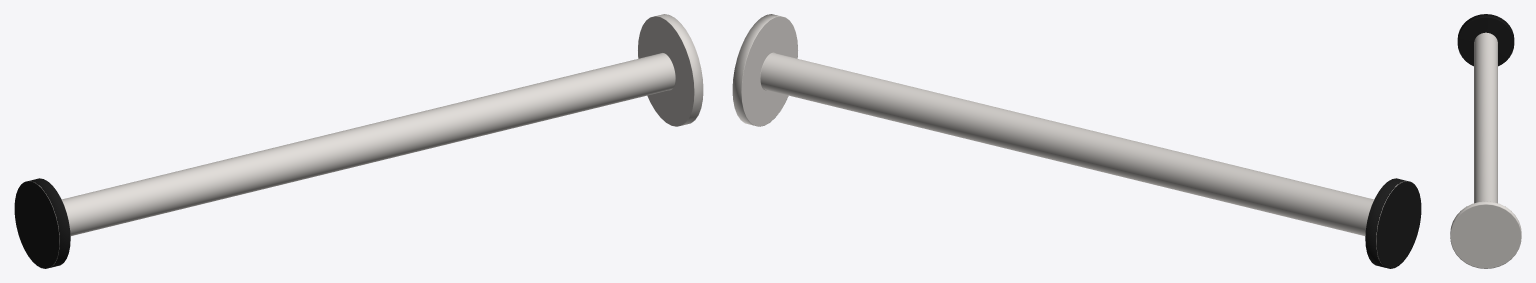
File: Syringe_Plunger.obj
The picture shows the model from 3 angles, left to right: view 1: azimuth 30°, elevation 25°; view 2: azimuth 150°, elevation 25°; view 3: azimuth 270°, elevation 25°; orthographic projection. The views are drawn at different scales.
Parts seen in each view (by area): view 1: Cylinder.002_Cylinder.003; view 2: Cylinder.002_Cylinder.003; view 3: Cylinder.002_Cylinder.003.
Boxes of the visible parts, x1,y1,x2,y2 form: Cylinder.002_Cylinder.003: [14, 14, 703, 268]; Cylinder.002_Cylinder.003: [732, 14, 1421, 268]; Cylinder.002_Cylinder.003: [1450, 14, 1521, 268].
Bounding box in the file's own units: 0.0814 × 0.0125 × 0.0125.
Materials: 1 (1 with a texture image).
